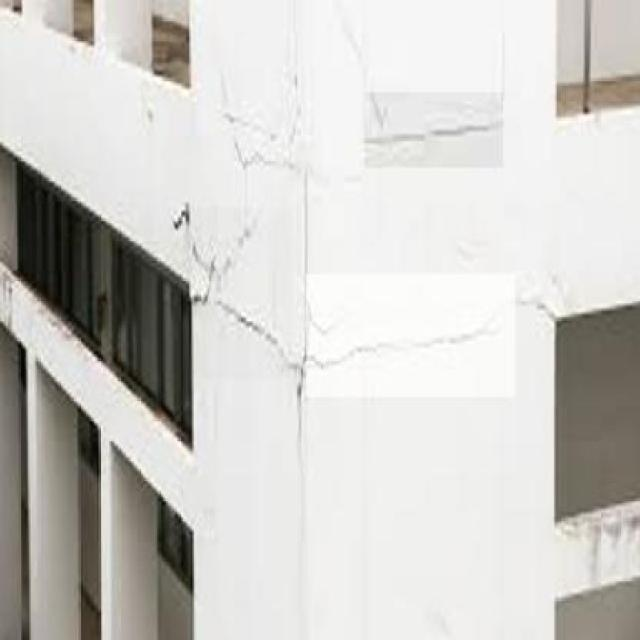Crack: (183, 211, 558, 384), (326, 27, 530, 166), (195, 66, 302, 180)
